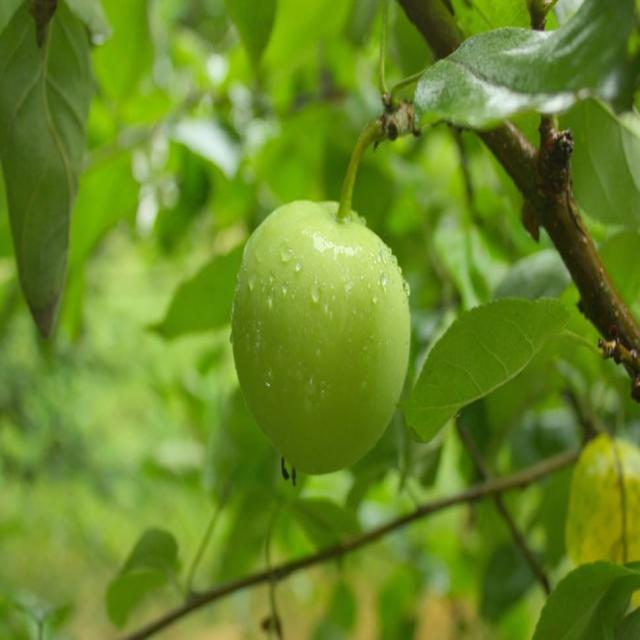Fresh Apple: (225, 205, 413, 453)
